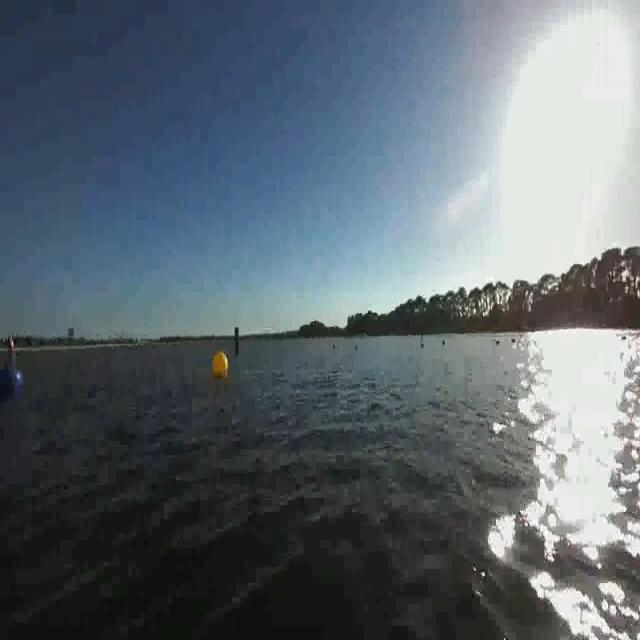blue-buoy: (2, 363, 22, 398)
yellow-buoy: (213, 350, 229, 378)
